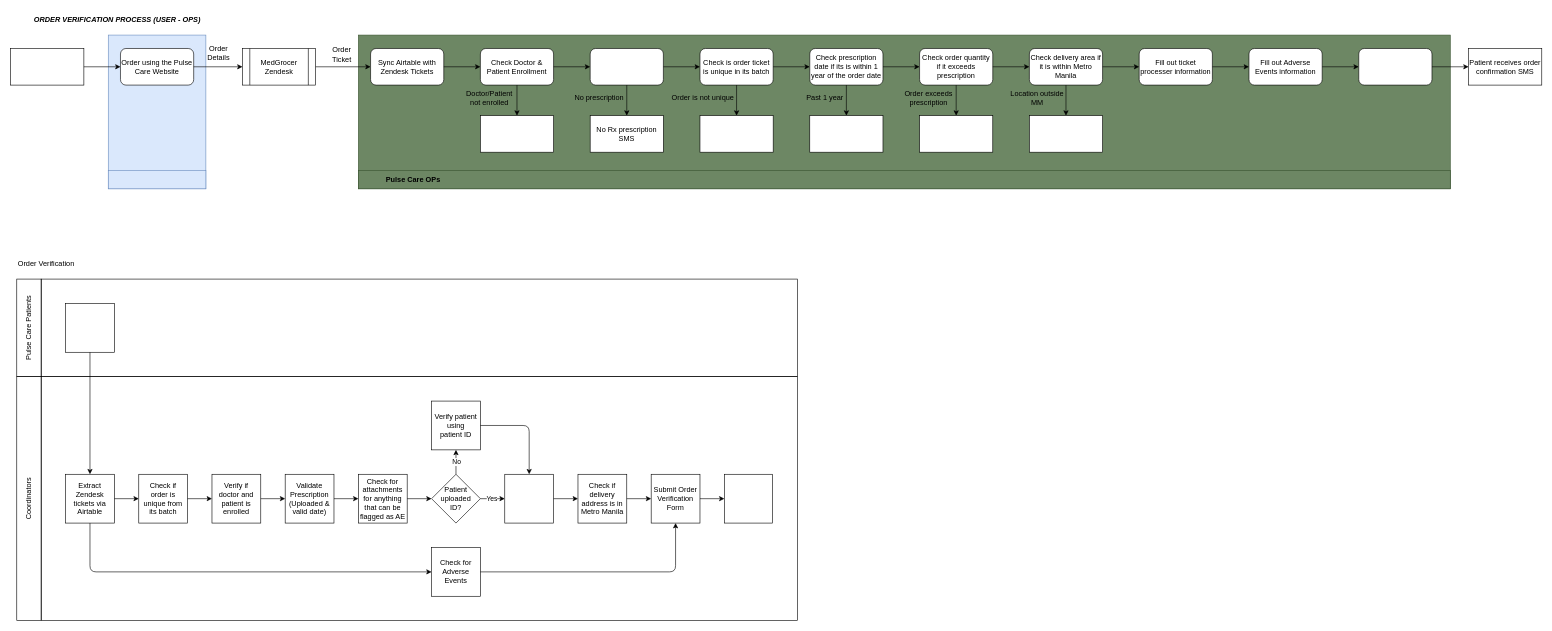
Image size: 1552x631. Some labels were removed from this diagram. The shapes that lost their labels are listed below. From the top down, each one's centre as x and y in pixels, then its label:
At [47,66]: "Patient (User)".
At [626,66]: "Check is there is a Rx prescription uploaded".
At [1395,66]: "Export SMS CSV".
At [517,133]: "Not enrolled SMS".
At [736,133]: "Duplicate order SMS".
At [846,133]: "Post date Rx prescription SMS".
At [956,133]: "Renew Rx prescription SMS".
At [1066,133]: "Non-Metro Manila delivery SMS".
At [157,179]: "Pulse Care Website".
At [89,327]: "Order from the Pulsecare website".
At [529,498]: "Validate medicine dosages".
At [748,498]: "Broadcast emails via Zendesk sender sheet".
